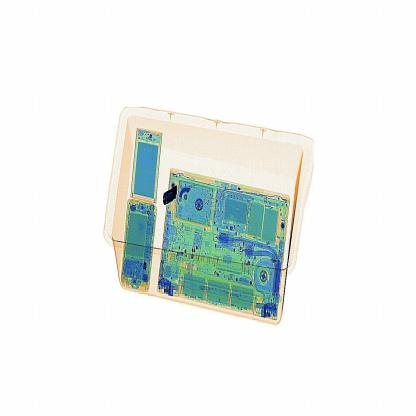knife: (160, 185, 180, 207)
